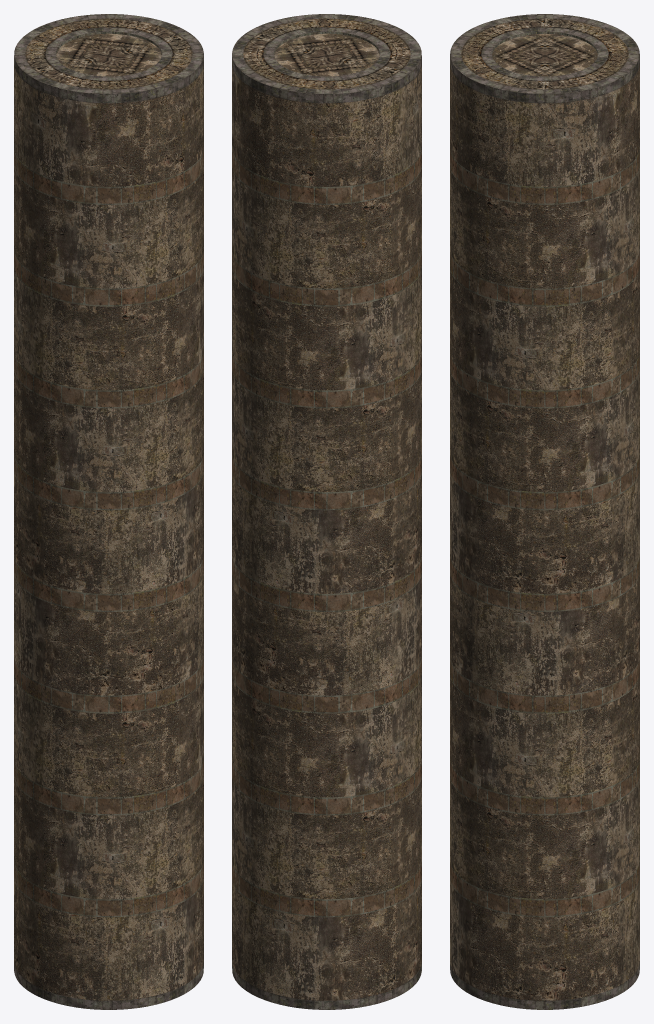
Rendered from materials_5_pillar_fat_3.fbx.
3 renders of one model, left to right at view 1: azimuth 30°, elevation 25°; view 2: azimuth 150°, elevation 25°; view 3: azimuth 270°, elevation 25°, orthographic.
Parts seen in each view (by area): view 1: materials_5_pillar_fat_3; view 2: materials_5_pillar_fat_3; view 3: materials_5_pillar_fat_3.
Boxes of the visible parts, <box> form: materials_5_pillar_fat_3: <box>14,14,203,1009</box>; materials_5_pillar_fat_3: <box>232,14,421,1009</box>; materials_5_pillar_fat_3: <box>450,14,639,1009</box>.
Bounding box in the file's own units: 135 × 717 × 135.
